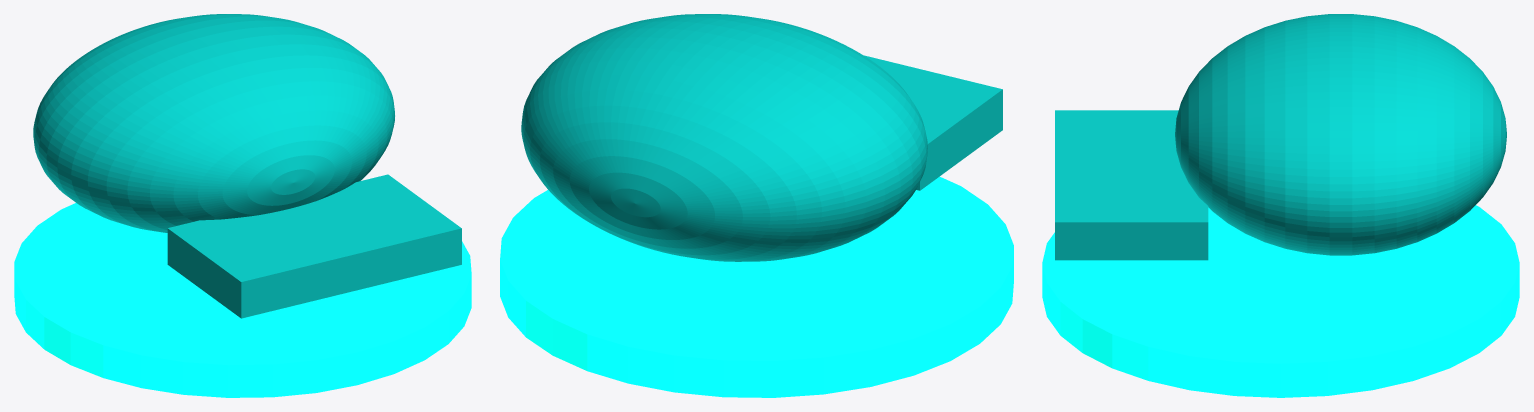
Rendered from fashion_cap.glb.
3 renders of one model, left to right at view 1: azimuth 30°, elevation 25°; view 2: azimuth 150°, elevation 25°; view 3: azimuth 270°, elevation 25°, orthographic. The views are drawn at different scales.
Visible parts, largest first — view 1: 06_08_Popular_Fashion_Cap_part_01, 06_08_Popular_Fashion_Cap_ROOT_base, 06_08_Popular_Fashion_Cap_part_02; view 2: 06_08_Popular_Fashion_Cap_part_01, 06_08_Popular_Fashion_Cap_ROOT_base, 06_08_Popular_Fashion_Cap_part_02; view 3: 06_08_Popular_Fashion_Cap_part_01, 06_08_Popular_Fashion_Cap_ROOT_base, 06_08_Popular_Fashion_Cap_part_02.
Boxes of the visible parts, bbox=[...] form: 06_08_Popular_Fashion_Cap_part_01: bbox=[33, 14, 394, 232]; 06_08_Popular_Fashion_Cap_ROOT_base: bbox=[14, 203, 471, 397]; 06_08_Popular_Fashion_Cap_part_02: bbox=[167, 174, 461, 318]; 06_08_Popular_Fashion_Cap_part_01: bbox=[521, 14, 927, 261]; 06_08_Popular_Fashion_Cap_ROOT_base: bbox=[500, 176, 1013, 397]; 06_08_Popular_Fashion_Cap_part_02: bbox=[864, 55, 1002, 190]; 06_08_Popular_Fashion_Cap_part_01: bbox=[1175, 14, 1506, 255]; 06_08_Popular_Fashion_Cap_ROOT_base: bbox=[1042, 205, 1519, 397]; 06_08_Popular_Fashion_Cap_part_02: bbox=[1055, 110, 1208, 260].
Size of the model in its own units: 0.76 by 0.4404 by 0.76.
